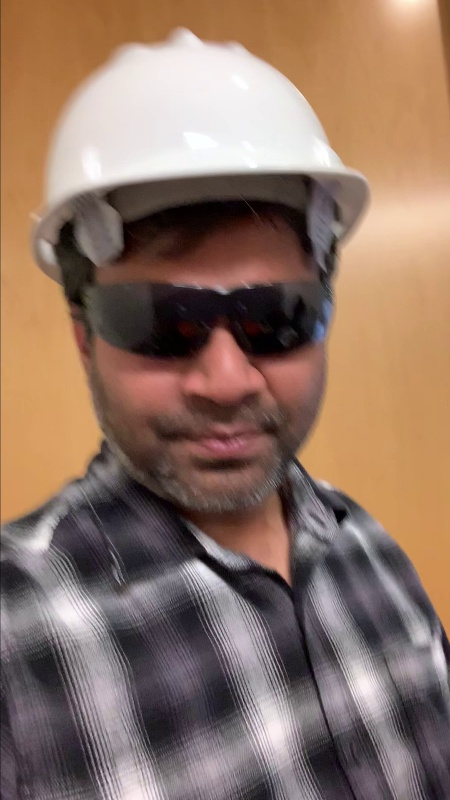glasses: (95, 277, 329, 360)
helmet: (38, 33, 357, 191)
